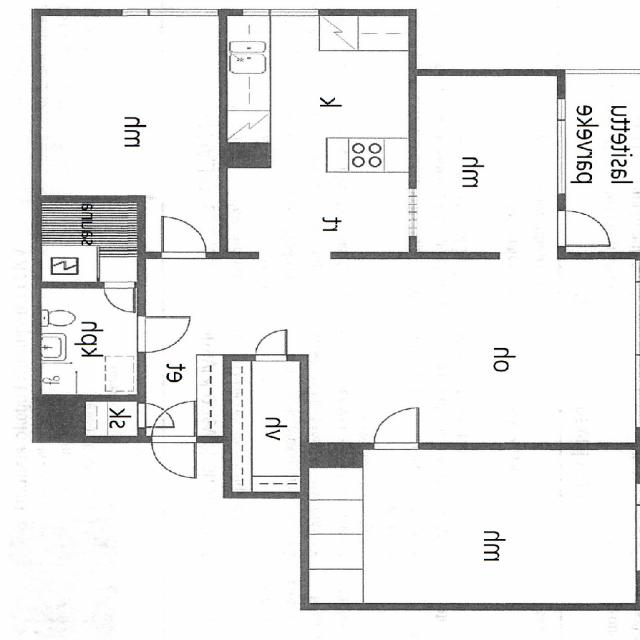door: (138, 317, 191, 352), (558, 211, 610, 246), (375, 408, 419, 449), (152, 436, 195, 477), (152, 402, 195, 443), (162, 218, 206, 258), (138, 403, 176, 428), (106, 282, 136, 312), (257, 331, 286, 361)
